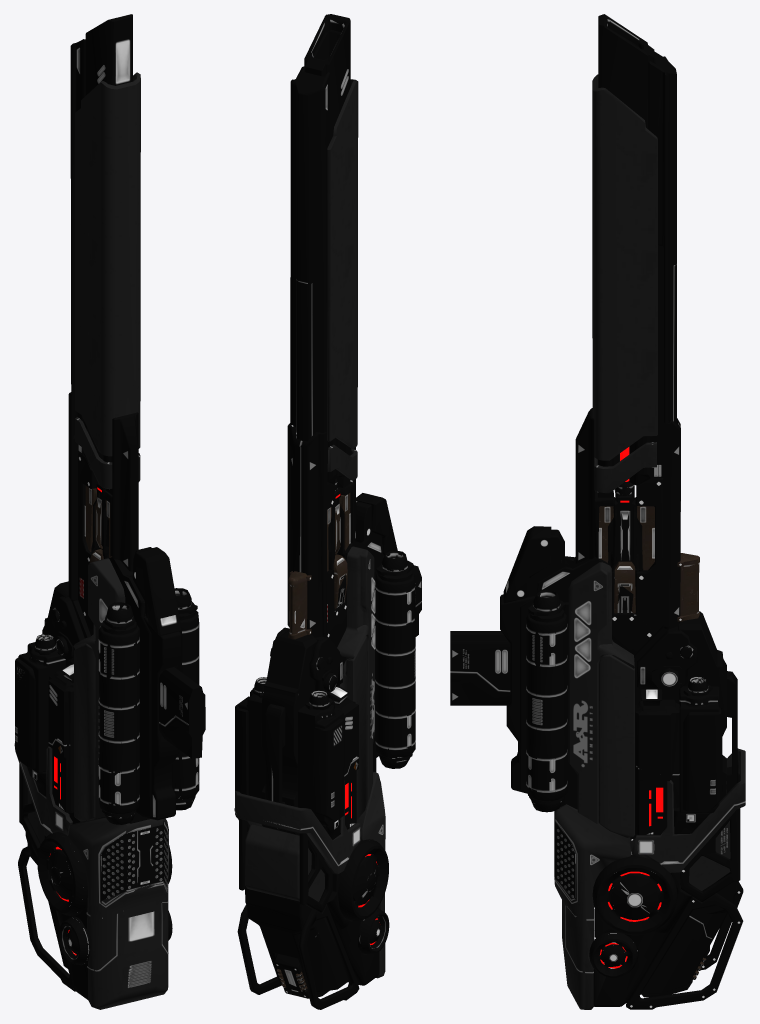
Rendered from omnisky-xii-cannon.glb.
The picture shows the model from 3 angles, left to right: view 1: azimuth 30°, elevation 25°; view 2: azimuth 150°, elevation 25°; view 3: azimuth 270°, elevation 25°; orthographic projection.
Visible parts, largest first — view 1: core, power; view 2: core, power; view 3: core, power.
Part boxes in pixels (x1=…): core: x1=14, y1=14, x2=205, y2=1009; power: x1=85, y1=485, x2=111, y2=562; core: x1=234, y1=14, x2=421, y2=1009; power: x1=277, y1=493, x2=350, y2=991; core: x1=450, y1=14, x2=745, y2=1009; power: x1=599, y1=506, x2=706, y2=978.
Bounding box in the file's own units: 0.512 × 4.83 × 1.33.
Materials: 8 (4 with a texture image).
